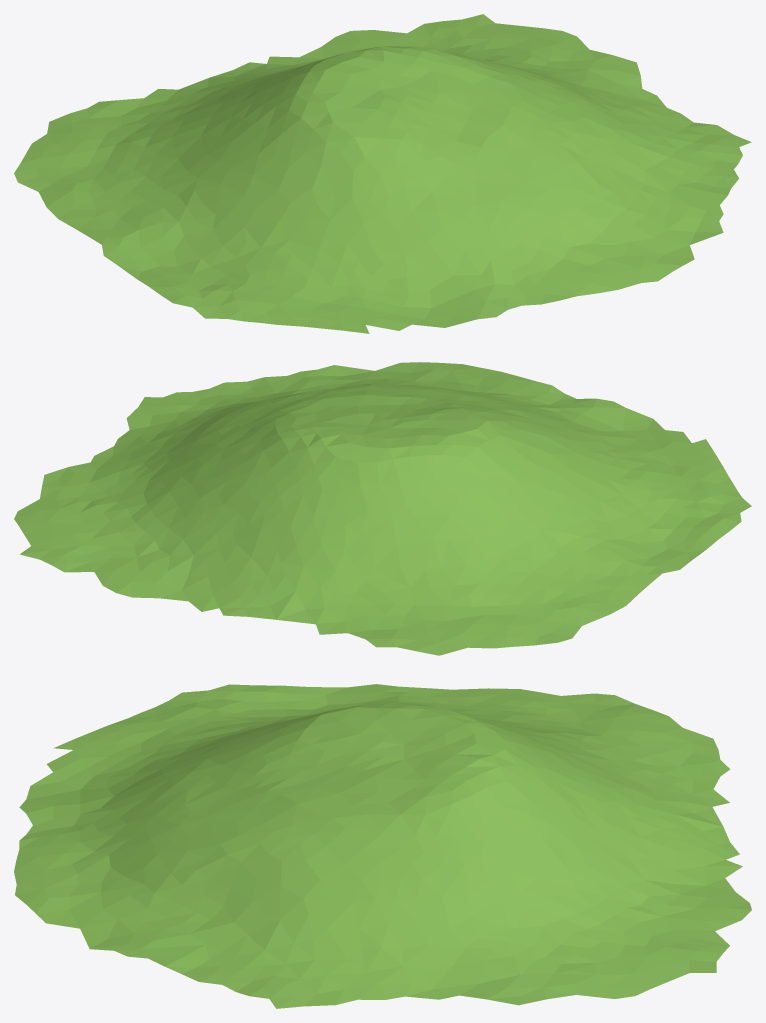
Rendered from MT_Mountain_L_a_02.fbx.
The picture shows the model from 3 angles, top to bottom: view 1: azimuth 30°, elevation 25°; view 2: azimuth 150°, elevation 25°; view 3: azimuth 270°, elevation 25°; orthographic projection. The views are drawn at different scales.
Visible parts, largest first — view 1: MT_Mountain_L_a_02; view 2: MT_Mountain_L_a_02; view 3: MT_Mountain_L_a_02.
Part boxes in pixels (box(x1,y1,x2,y2)): MT_Mountain_L_a_02: box(14, 14, 751, 333); MT_Mountain_L_a_02: box(14, 362, 751, 655); MT_Mountain_L_a_02: box(14, 684, 751, 1008).
Size of the model in its own units: 8864 by 1346 by 8517.
